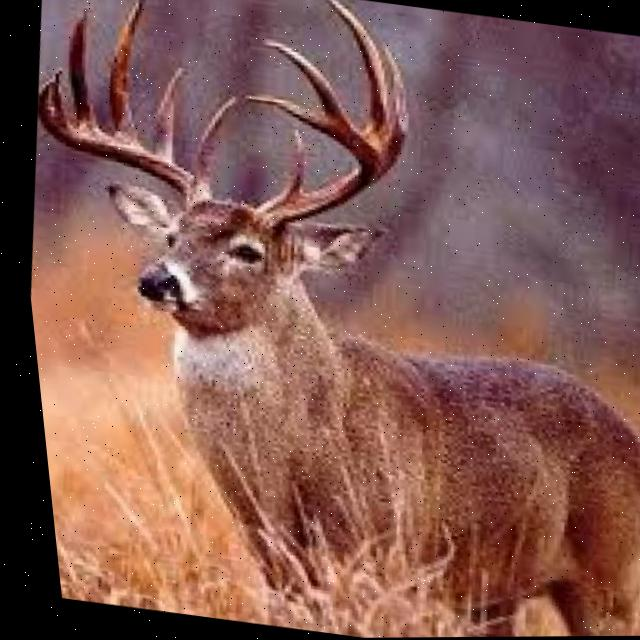L-F: (36, 74, 190, 194)
L-G1: (191, 96, 238, 185)
L-G2: (150, 67, 184, 163)
L-G3: (107, 0, 146, 135)
L-G4: (66, 7, 89, 121)
R-F: (241, 92, 380, 234)
R-G1: (282, 129, 302, 198)
